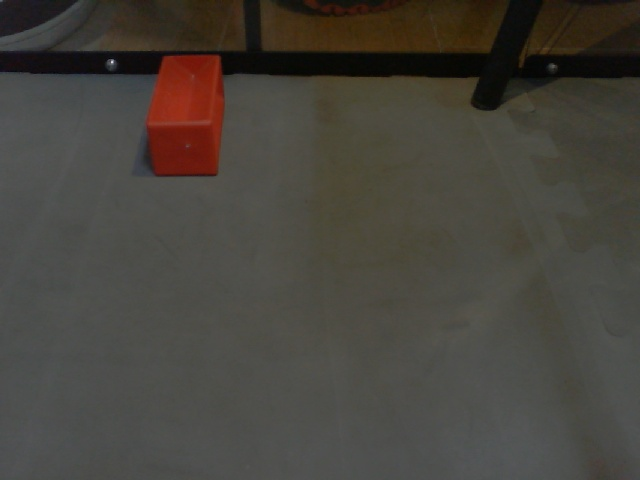RedSample: (144, 50, 225, 180)
